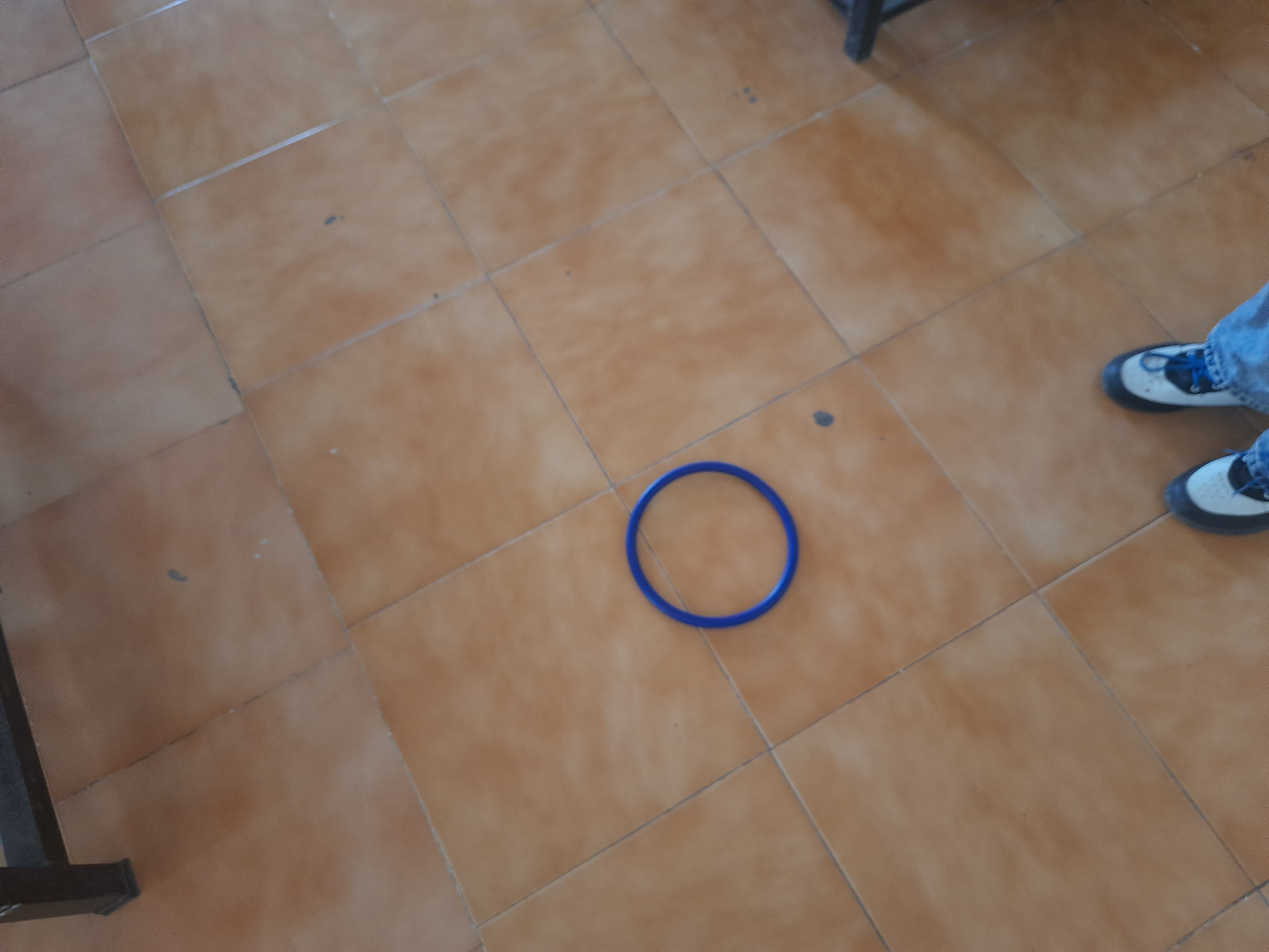Blue ring: (624, 460, 799, 630)
